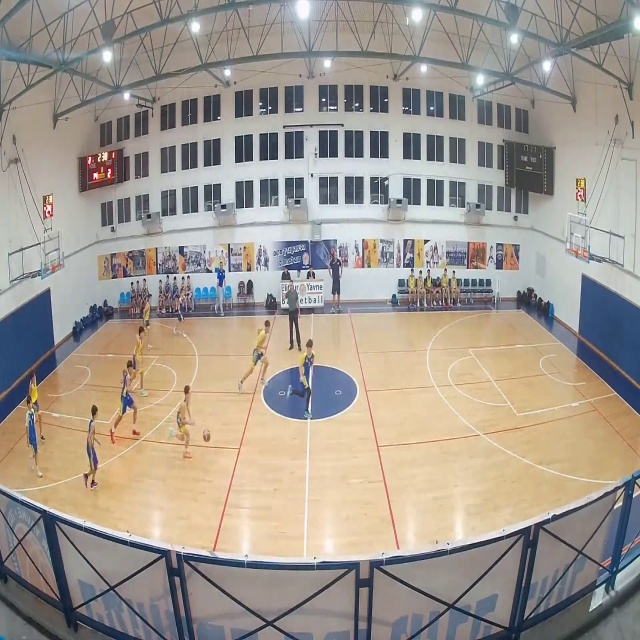Basketball: (202, 429, 210, 442)
